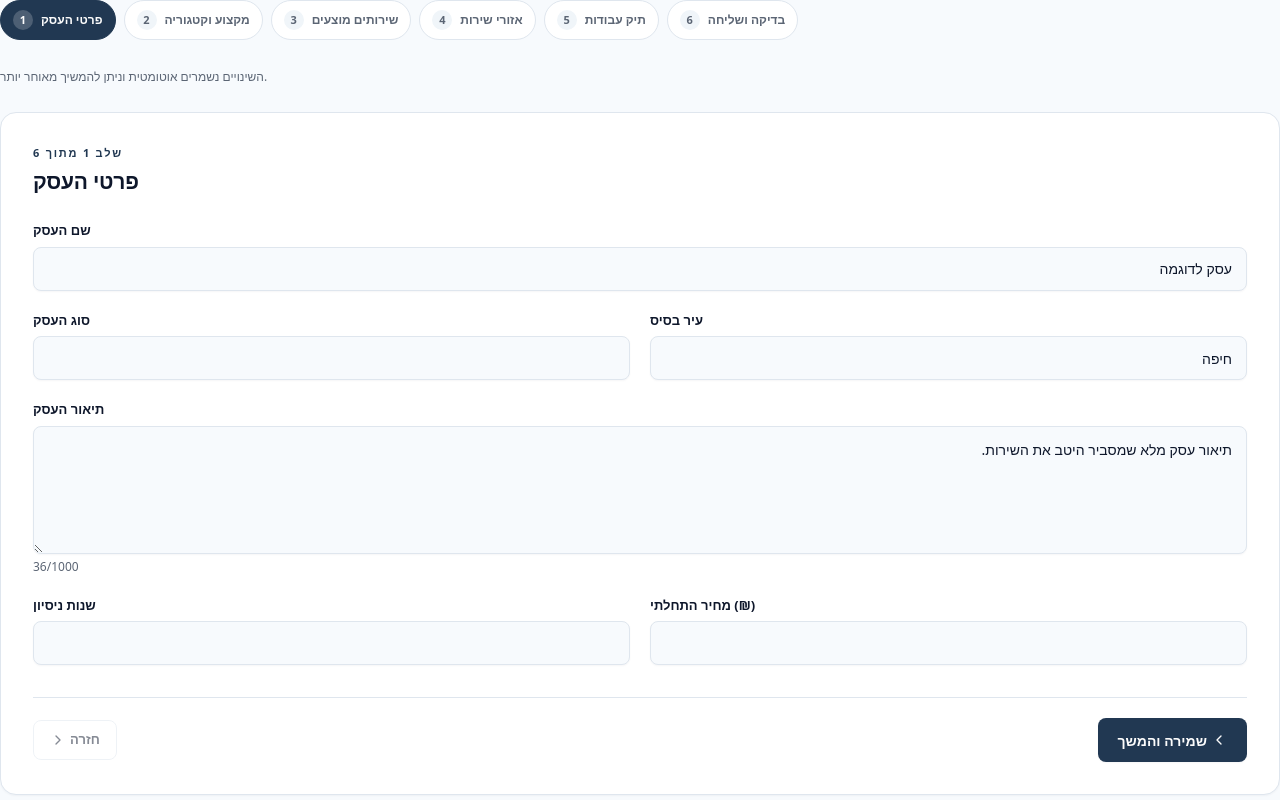
Test case: SupplierOnboardingWizard stage validation › still blocks invalid visible stage-1 fields
What coordinates should you click on to do the following:
click the button "שמירה והמשך"
I would click on:
 (1172, 740)
Its box is [1098,718,1247,762].
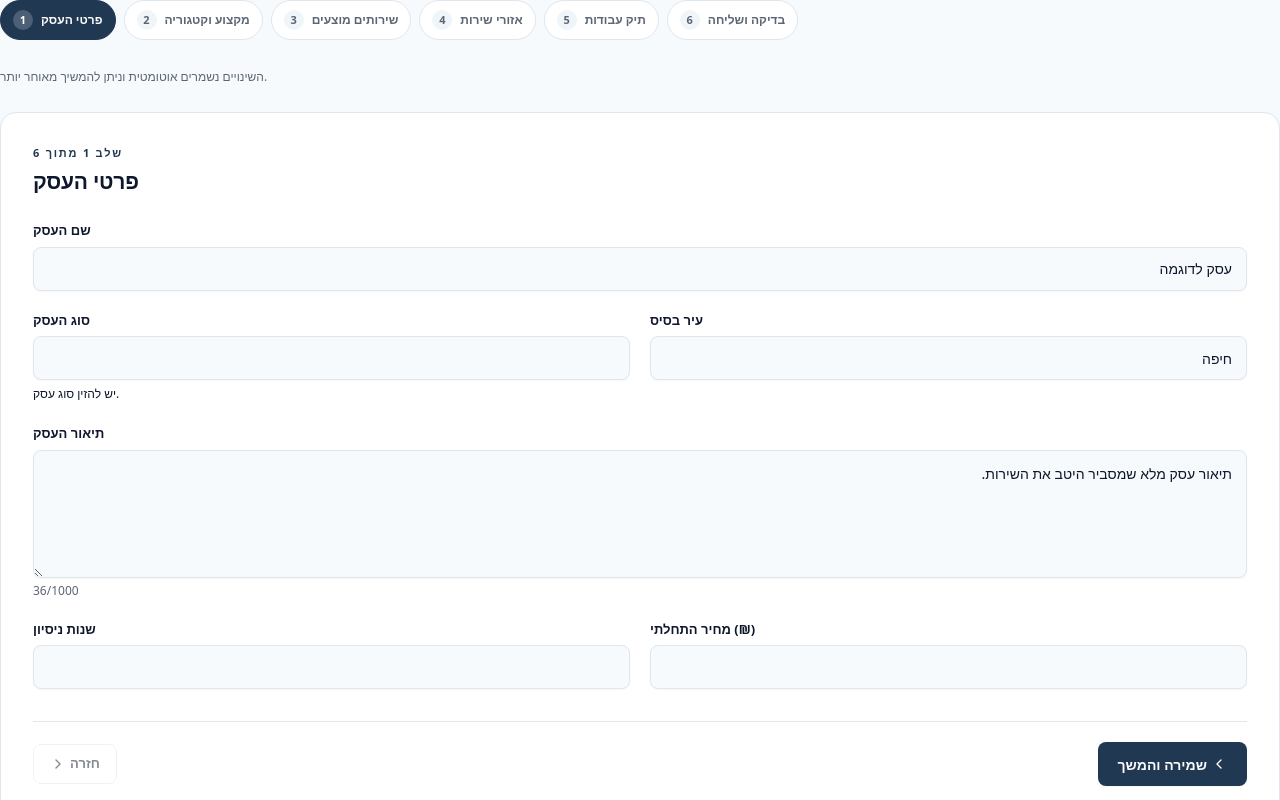
Result: the text "יש להזין סוג עסק." is shown at [33,385,119,402]
